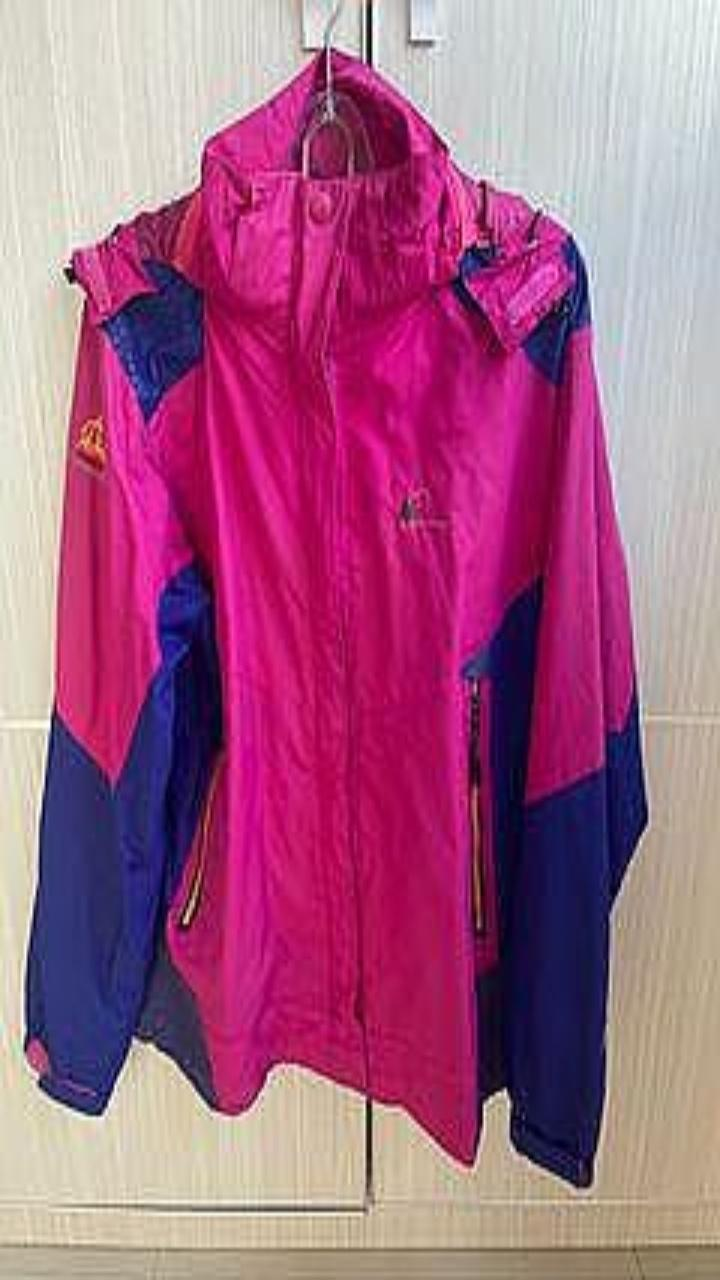Sports_Jacket: (26, 53, 646, 1185)
